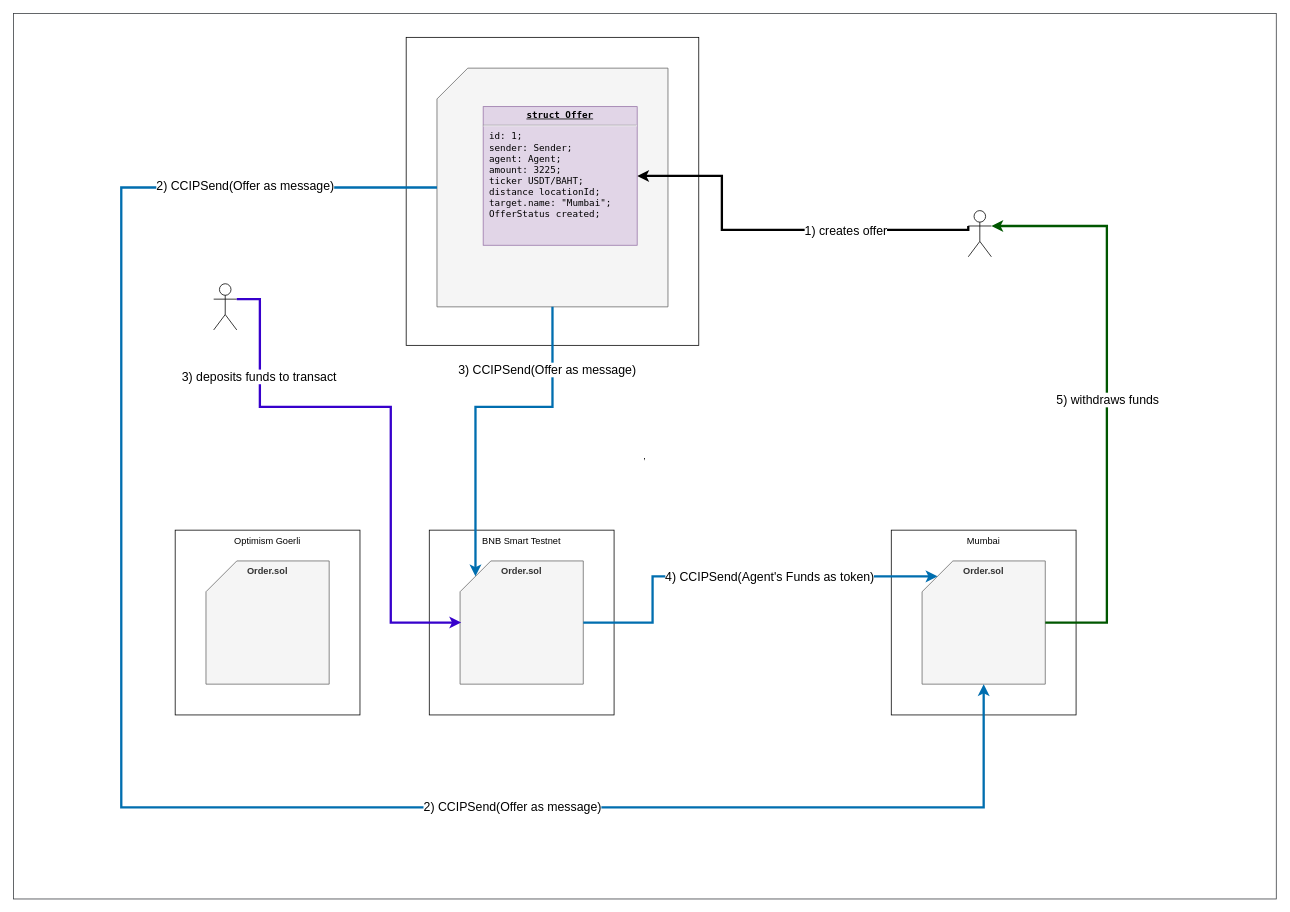
Some shapes in this 1290 by 912 pixel diagram are drawn without their labels. Each missing label, with the box of its shape:
Agent: (968, 210, 991, 257)
Offer.sol: (436, 67, 668, 307)
Sender: (213, 283, 237, 330)
zkEVM: (405, 37, 699, 345)
